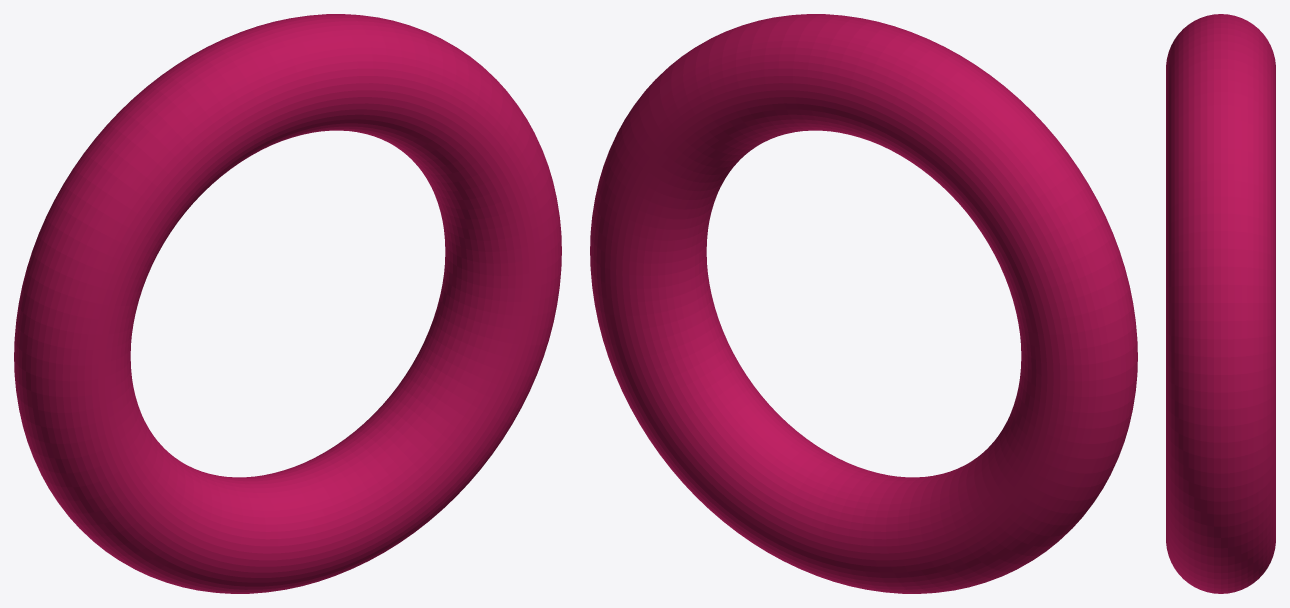
3 views of the same model, side by side, from view 1: azimuth 30°, elevation 25°; view 2: azimuth 150°, elevation 25°; view 3: azimuth 270°, elevation 25° (orthographic). The views are drawn at different scales.
Visible parts, largest first — view 1: world; view 2: world; view 3: world.
Boxes of the visible parts, x1,y1,x2,y2 form: world: (14, 14, 561, 593); world: (590, 14, 1137, 593); world: (1166, 14, 1275, 593).
Size of the model in its own units: 28.8 by 28.8 by 5.46.
